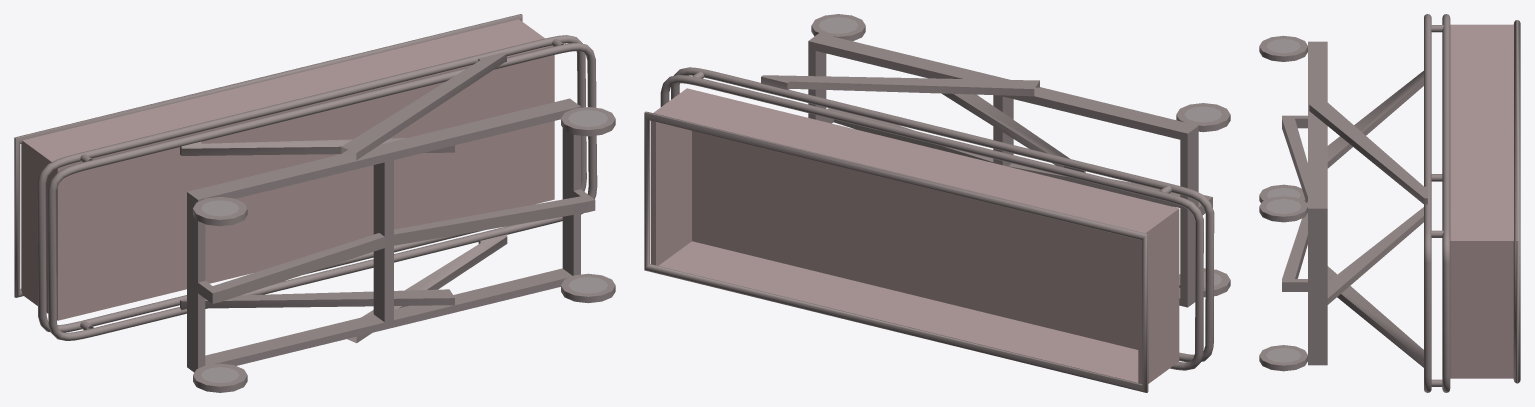
3 renders of one model, left to right at view 1: azimuth 30°, elevation 25°; view 2: azimuth 150°, elevation 25°; view 3: azimuth 270°, elevation 25°, orthographic. The views are drawn at different scales.
Parts seen in each view (by area): view 1: Circle.001; view 2: Circle.001; view 3: Circle.001.
Part boxes in pixels (x1=…): Circle.001: x1=14, y1=14, x2=615, y2=392; Circle.001: x1=644, y1=14, x2=1230, y2=392; Circle.001: x1=1259, y1=14, x2=1520, y2=392.
Size of the model in its own units: 195 by 64.6 by 90.23.
